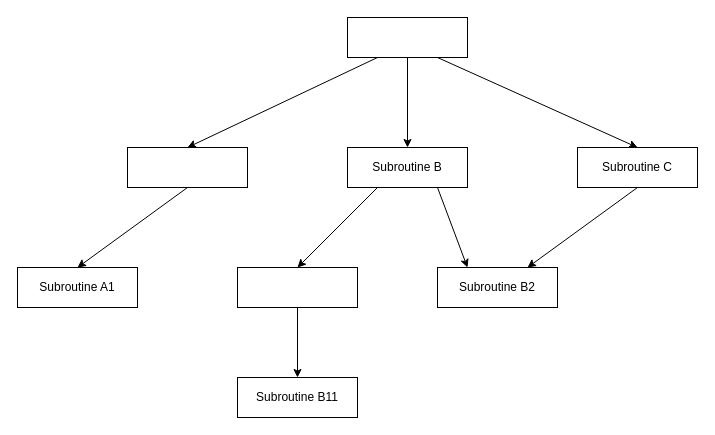
Image size: 715x435. Some labels were removed from this diagram. Here are the shapes that lost their labels. From the top down, the box of each, then its label:
(346, 16, 468, 58): Main Program
(126, 146, 248, 188): Subroutine A
(236, 266, 358, 308): Subroutine B1
